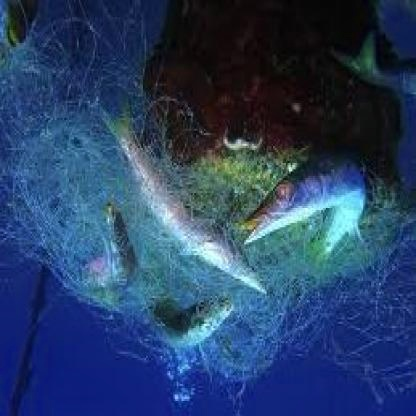net: (6, 55, 416, 364)
